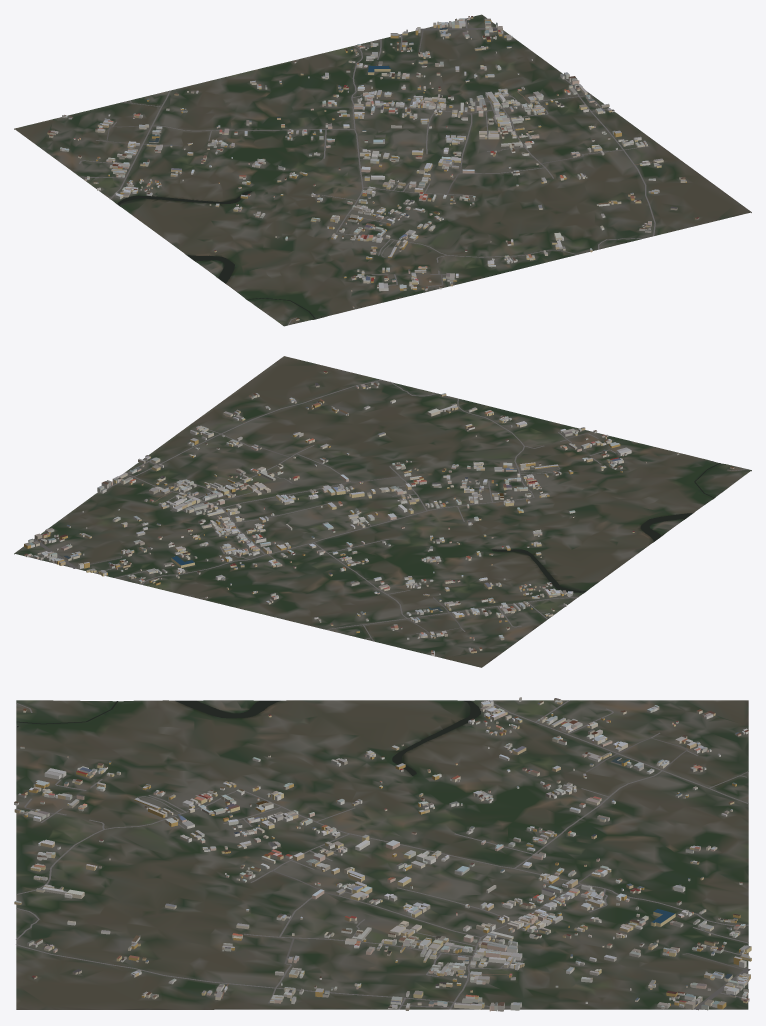
3 renders of one model, top to bottom at view 1: azimuth 30°, elevation 25°; view 2: azimuth 150°, elevation 25°; view 3: azimuth 270°, elevation 25°, orthographic. The views are drawn at different scales.
Parts seen in each view (by area): view 1: ground, buildings, roads, water; view 2: ground, buildings, roads, water; view 3: ground, buildings, roads, water.
Boxes of the visible parts, left/top/right/bottom form: ground: left=14, top=14, right=751, bottom=326; buildings: left=47, top=16, right=699, bottom=320; roads: left=79, top=18, right=655, bottom=325; water: left=117, top=191, right=322, bottom=319; ground: left=14, top=356, right=751, bottom=667; buildings: left=24, top=371, right=734, bottom=655; roads: left=30, top=380, right=747, bottom=641; water: left=491, top=461, right=720, bottom=592; ground: left=16, top=700, right=748, bottom=1009; buildings: left=14, top=697, right=751, bottom=1011; roads: left=16, top=700, right=750, bottom=1010; water: left=16, top=700, right=480, bottom=775.
Size of the model in its own units: 1411 by 19.14 by 1412.
